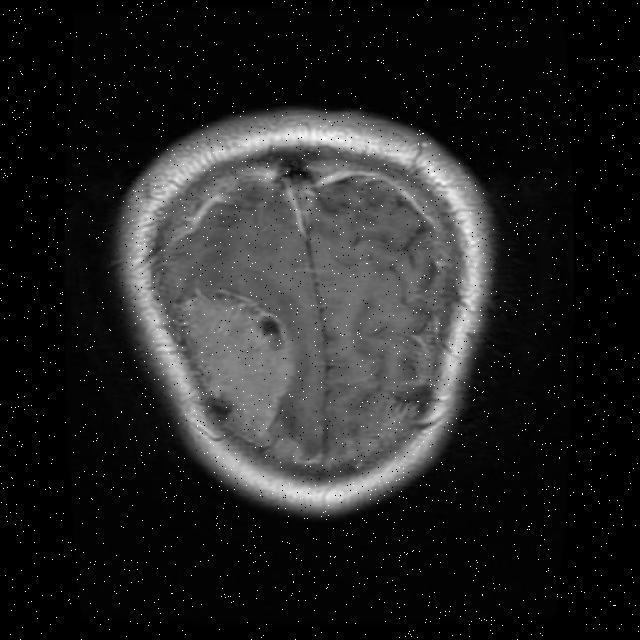Meningioma: (181, 288, 291, 445)
